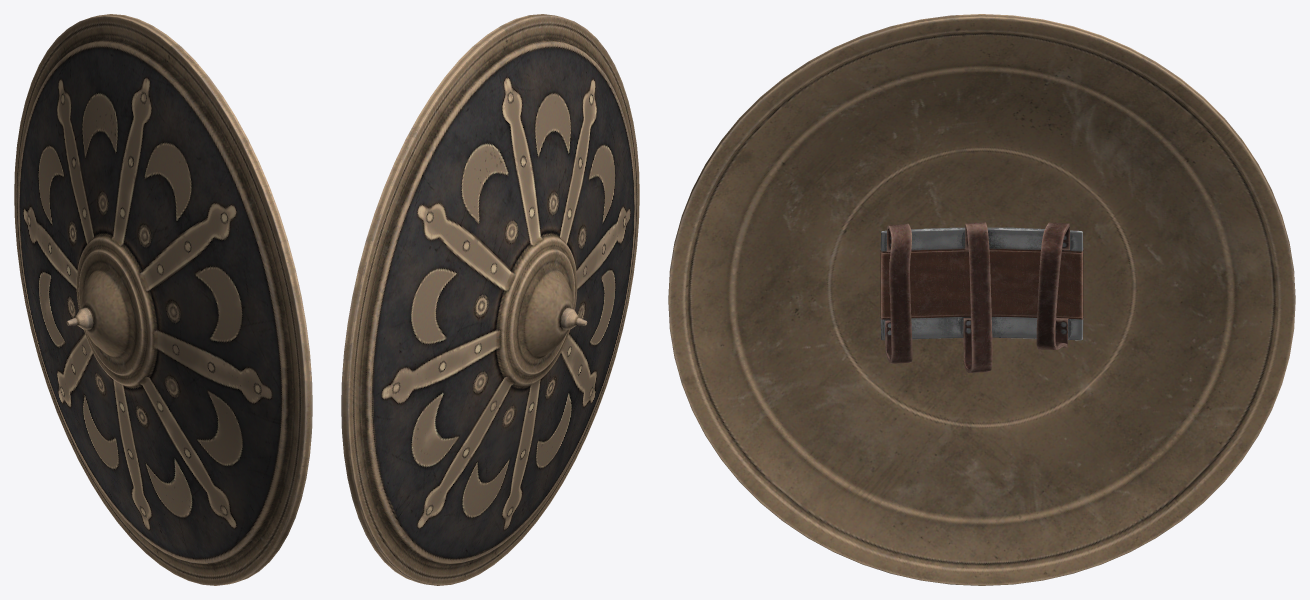
Rendered from Arab_Shield_01.fbx.
3 renders of one model, left to right at view 1: azimuth 30°, elevation 25°; view 2: azimuth 150°, elevation 25°; view 3: azimuth 270°, elevation 25°, orthographic. The views are drawn at different scales.
Parts seen in each view (by area): view 1: Arab_Shield_01_LOD0; view 2: Arab_Shield_01_LOD0; view 3: Arab_Shield_01_LOD0.
Boxes of the visible parts, box(x1,y1,x2,y2) form: Arab_Shield_01_LOD0: box(14, 14, 312, 585); Arab_Shield_01_LOD0: box(341, 14, 639, 585); Arab_Shield_01_LOD0: box(668, 14, 1295, 585).
Size of what is drawn, in the model's own units: 12.13 by 58 by 58.
